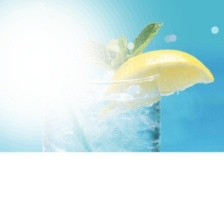drinking_straw: (31, 0, 93, 154)
glass: (36, 59, 167, 152)
